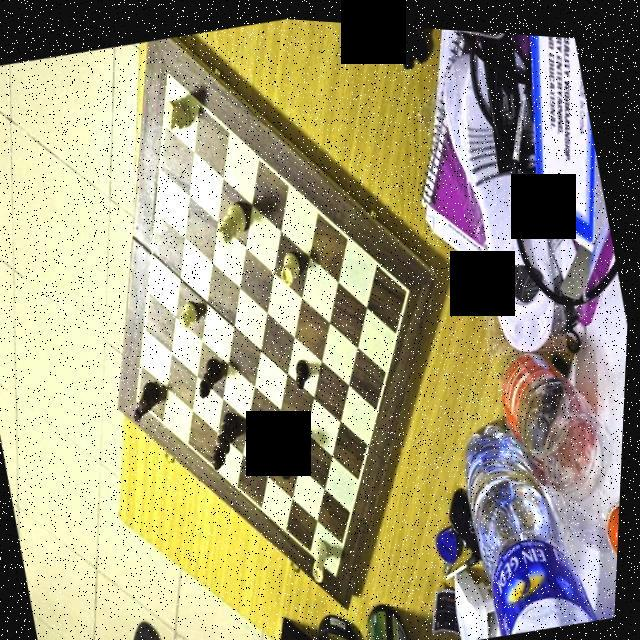chess-table-corners: (402, 274, 416, 298), (162, 66, 176, 86), (136, 392, 143, 404), (336, 564, 342, 578)
